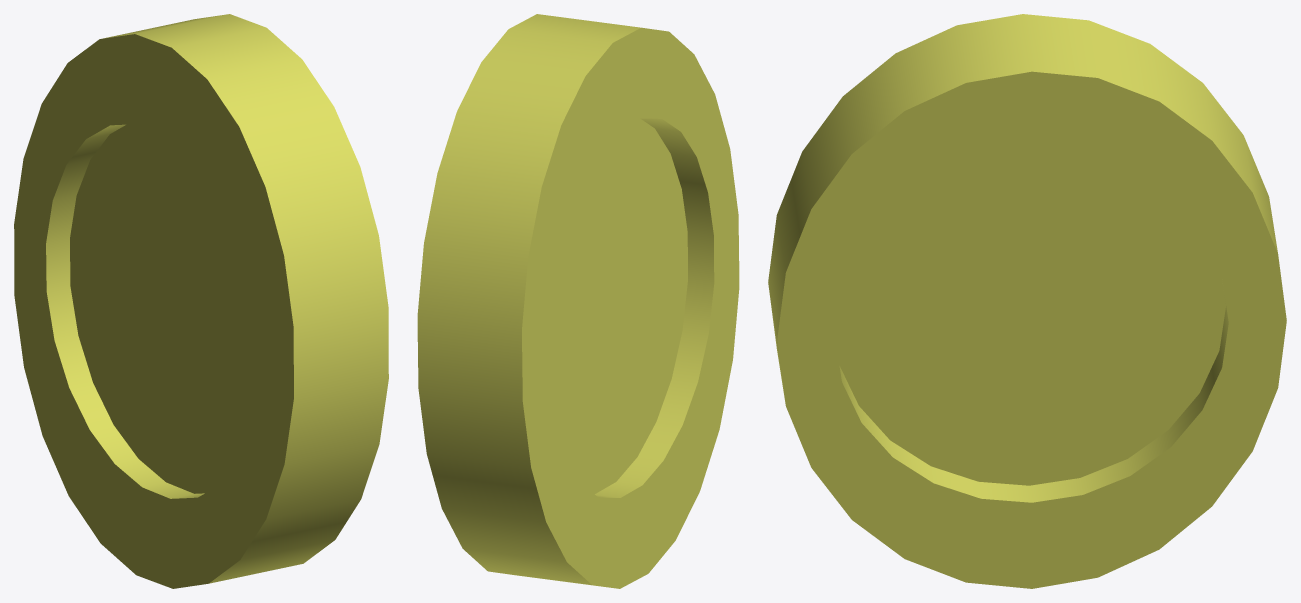
Rendered from Coin2.0Final.fbx.
3 renders of one model, left to right at view 1: azimuth 30°, elevation 25°; view 2: azimuth 150°, elevation 25°; view 3: azimuth 270°, elevation 25°, orthographic. The views are drawn at different scales.
Visible parts, largest first — view 1: pDisc1; view 2: pDisc1; view 3: pDisc1.
Part boxes in pixels (left/top/right/bottom): pDisc1: left=14, top=14, right=388, bottom=588; pDisc1: left=417, top=14, right=739, bottom=588; pDisc1: left=768, top=14, right=1286, bottom=588.
Bounding box in the file's own units: 0.8903 × 3.04 × 2.63.
